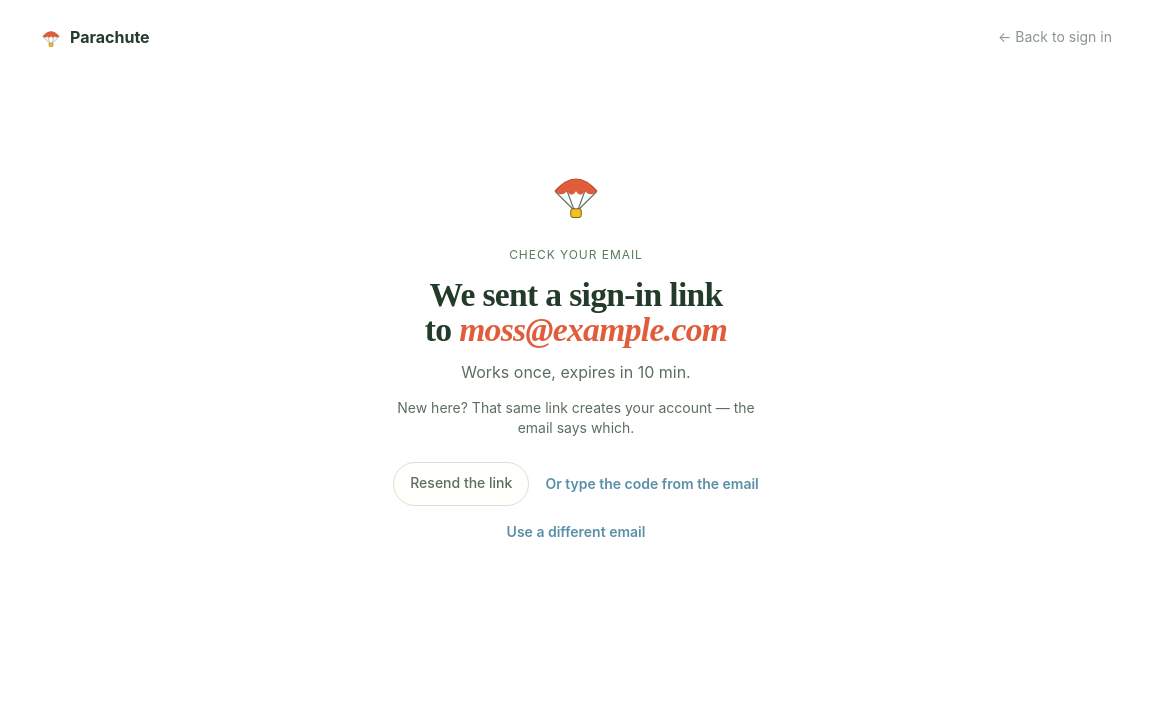
Scenario: CheckEmail › the sign-in code field › is hidden until 'Or type the code from the email' is clicked
The image size is (1152, 720).
expect the field labelled "6-digit code" is not shown: met
Step 1. Click the button "Or type the code from the email" → (652, 484), box [545,474,759,494]
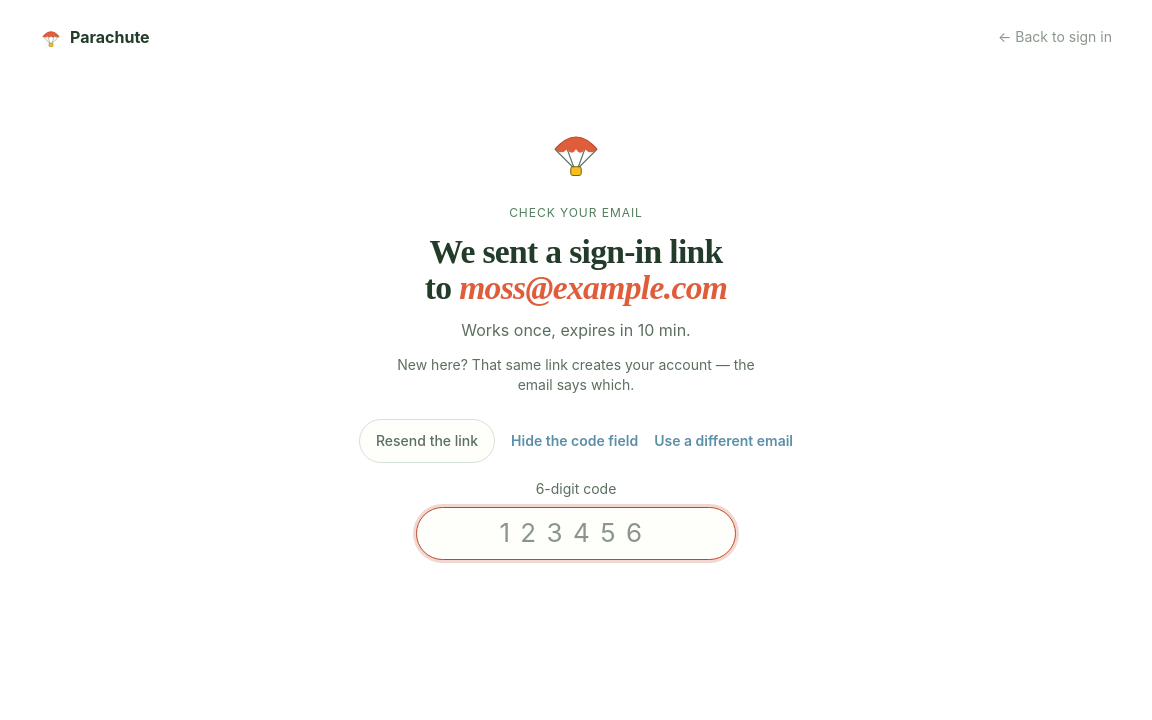
expect the field labelled "6-digit code" is shown: met, box [416,507,736,560]
